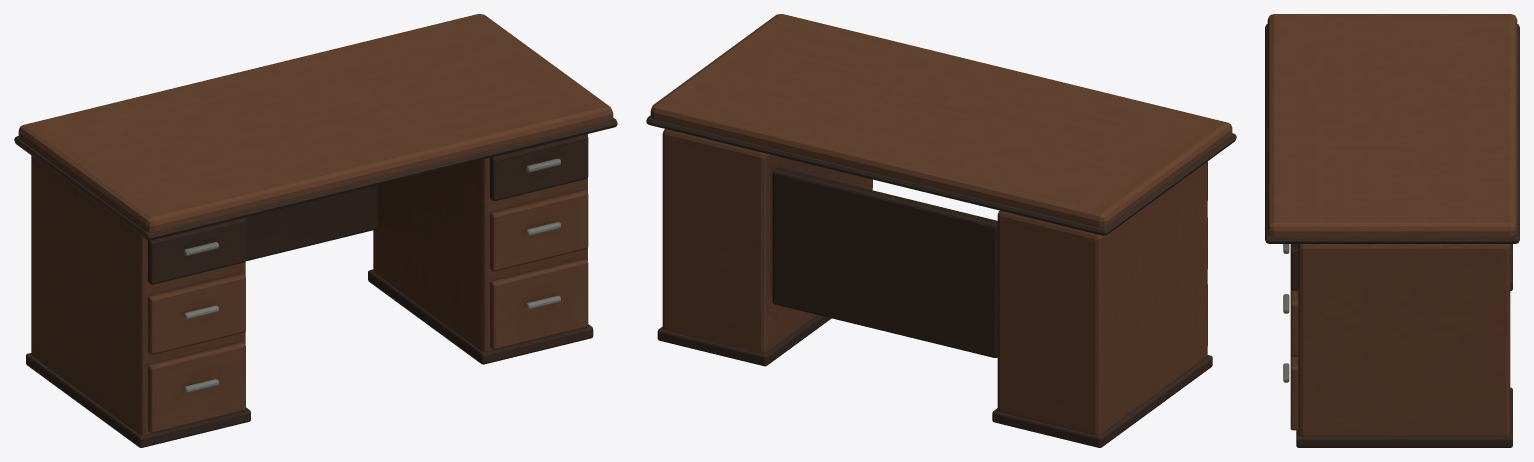
Rendered from props-desk-pedestal-wood.glb.
The picture shows the model from 3 angles, left to right: view 1: azimuth 30°, elevation 25°; view 2: azimuth 150°, elevation 25°; view 3: azimuth 270°, elevation 25°; orthographic projection. The views are drawn at different scales.
Parts seen in each view (by area): view 1: case-baked; view 2: case-baked; view 3: case-baked.
Boxes of the visible parts, box(x1,y1,x2,y2) form: case-baked: box(14, 14, 617, 447); case-baked: box(646, 14, 1236, 447); case-baked: box(1265, 14, 1519, 447).
Size of the model in its own units: 1.48 by 0.7199 by 0.735.
1 material, 1 textured.
